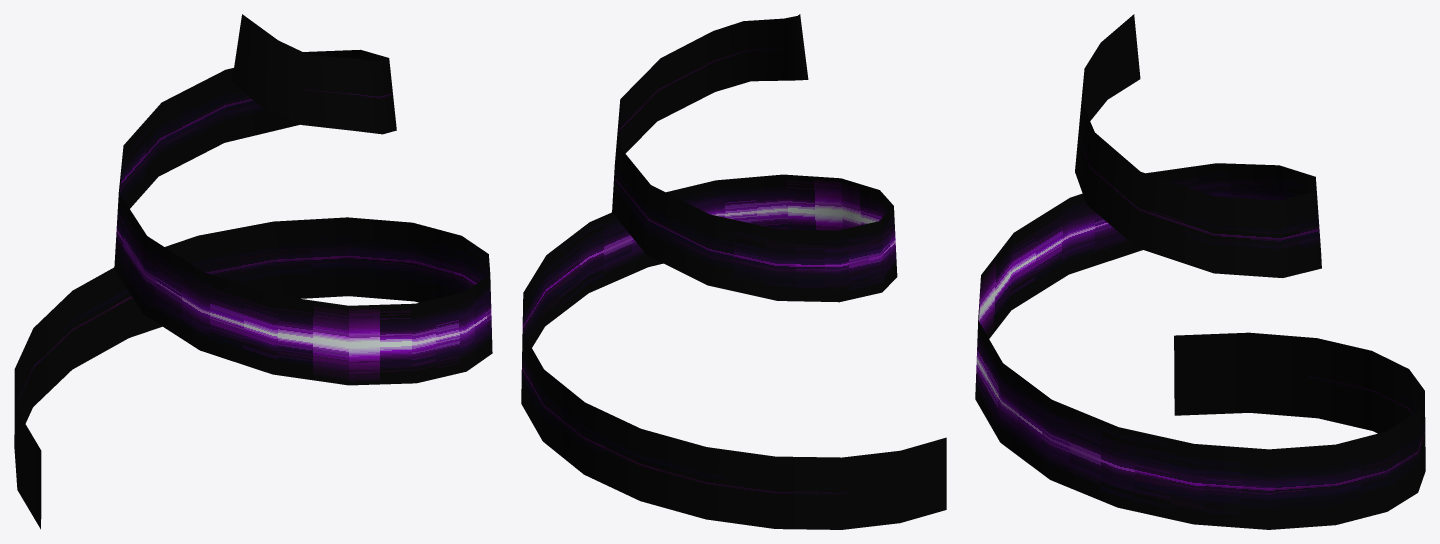
File: donghua #876121.fbx
3 renders of one model, left to right at view 1: azimuth 30°, elevation 25°; view 2: azimuth 150°, elevation 25°; view 3: azimuth 270°, elevation 25°, orthographic. The views are drawn at different scales.
Visible parts, largest first — view 1: donghua; view 2: donghua; view 3: donghua.
Boxes of the visible parts, <box> form: donghua: <box>14,14,492,529</box>; donghua: <box>521,14,946,529</box>; donghua: <box>975,14,1425,529</box>.
Size of the model in its own units: 1.75 by 1.89 by 1.57.
